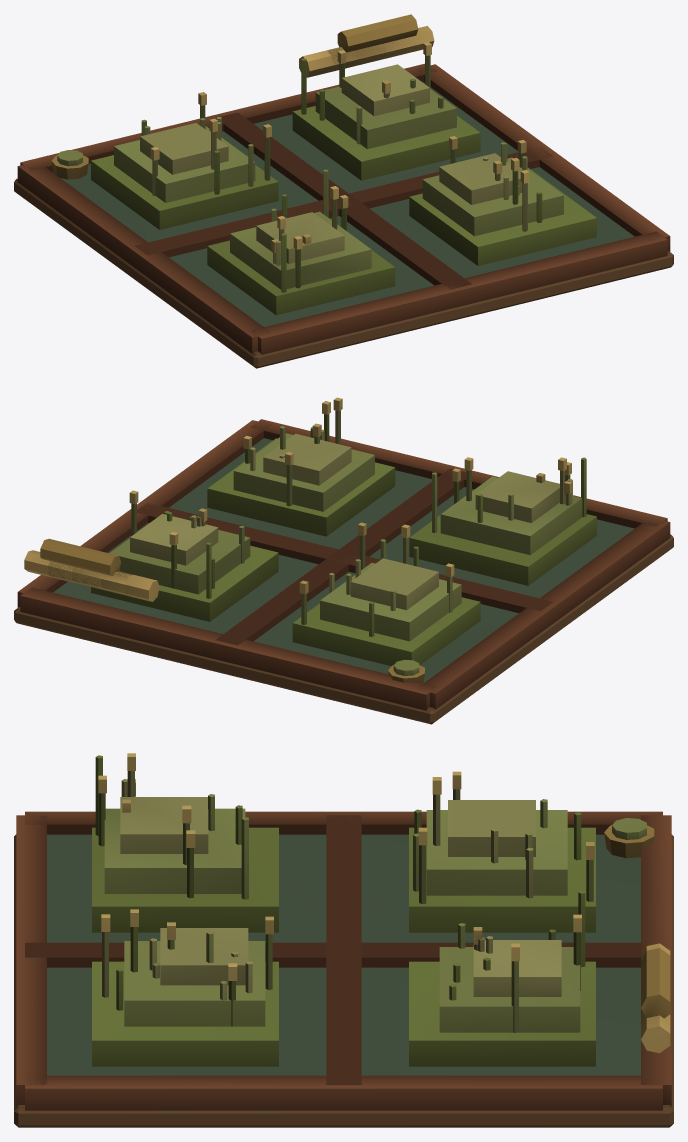
The model's file is marsh_reed_bed.glb.
3 renders of one model, top to bottom at view 1: azimuth 30°, elevation 25°; view 2: azimuth 150°, elevation 25°; view 3: azimuth 270°, elevation 25°, orthographic. The views are drawn at different scales.
Parts seen in each view (by area): view 1: marsh_rush_bed_mud_dark, marsh_rush_bed_crop_deep, marsh_rush_bed_crop_green, marsh_rush_bed_channel_water, marsh_rush_bed_crop_light, marsh_rush_bed_soil_dark, marsh_rush_bed_thatch_dark, marsh_rush_bed_thatch_mat, marsh_rush_bed_crop_amber; view 2: marsh_rush_bed_mud_dark, marsh_rush_bed_crop_deep, marsh_rush_bed_crop_green, marsh_rush_bed_channel_water, marsh_rush_bed_crop_light, marsh_rush_bed_soil_dark, marsh_rush_bed_thatch_mat, marsh_rush_bed_crop_amber, marsh_rush_bed_thatch_dark; view 3: marsh_rush_bed_mud_dark, marsh_rush_bed_channel_water, marsh_rush_bed_crop_deep, marsh_rush_bed_crop_green, marsh_rush_bed_crop_light, marsh_rush_bed_soil_dark, marsh_rush_bed_crop_amber, marsh_rush_bed_thatch_dark, marsh_rush_bed_thatch_mat.
Part boxes in pixels (bbox=[...]): marsh_rush_bed_mud_dark: bbox=[17, 63, 670, 354]; marsh_rush_bed_crop_deep: bbox=[91, 58, 596, 315]; marsh_rush_bed_crop_green: bbox=[57, 55, 563, 289]; marsh_rush_bed_channel_water: bbox=[53, 82, 634, 326]; marsh_rush_bed_crop_light: bbox=[140, 64, 527, 265]; marsh_rush_bed_soil_dark: bbox=[14, 178, 673, 368]; marsh_rush_bed_thatch_dark: bbox=[51, 14, 418, 179]; marsh_rush_bed_thatch_mat: bbox=[299, 26, 434, 77]; marsh_rush_bed_crop_amber: bbox=[150, 42, 529, 252]; marsh_rush_bed_mud_dark: bbox=[17, 419, 670, 710]; marsh_rush_bed_crop_deep: bbox=[91, 414, 596, 666]; marsh_rush_bed_crop_green: bbox=[109, 426, 582, 675]; marsh_rush_bed_channel_water: bbox=[53, 438, 634, 682]; marsh_rush_bed_crop_light: bbox=[130, 410, 572, 612]; marsh_rush_bed_soil_dark: bbox=[14, 534, 673, 724]; marsh_rush_bed_thatch_mat: bbox=[24, 550, 159, 601]; marsh_rush_bed_crop_amber: bbox=[129, 397, 572, 594]; marsh_rush_bed_thatch_dark: bbox=[40, 538, 424, 682]; marsh_rush_bed_mud_dark: bbox=[16, 811, 671, 1110]; marsh_rush_bed_channel_water: bbox=[47, 834, 640, 1075]; marsh_rush_bed_crop_deep: bbox=[92, 755, 595, 1066]; marsh_rush_bed_crop_green: bbox=[104, 794, 646, 1032]; marsh_rush_bed_crop_light: bbox=[102, 771, 561, 1000]; marsh_rush_bed_soil_dark: bbox=[14, 834, 673, 1127]; marsh_rush_bed_crop_amber: bbox=[98, 753, 594, 980]; marsh_rush_bed_thatch_dark: bbox=[604, 825, 670, 1018]; marsh_rush_bed_thatch_mat: bbox=[641, 943, 670, 1053].
Size of the model in its own units: 3 by 0.7394 by 3.
